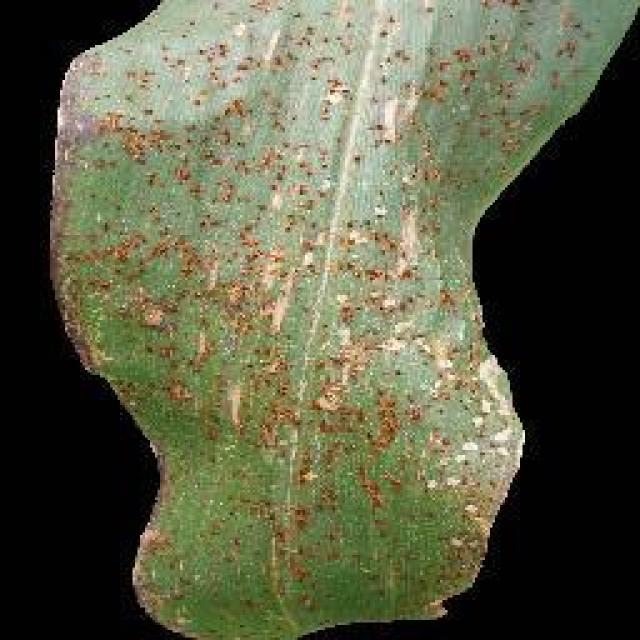Corn Common Rust: (87, 32, 510, 583)
